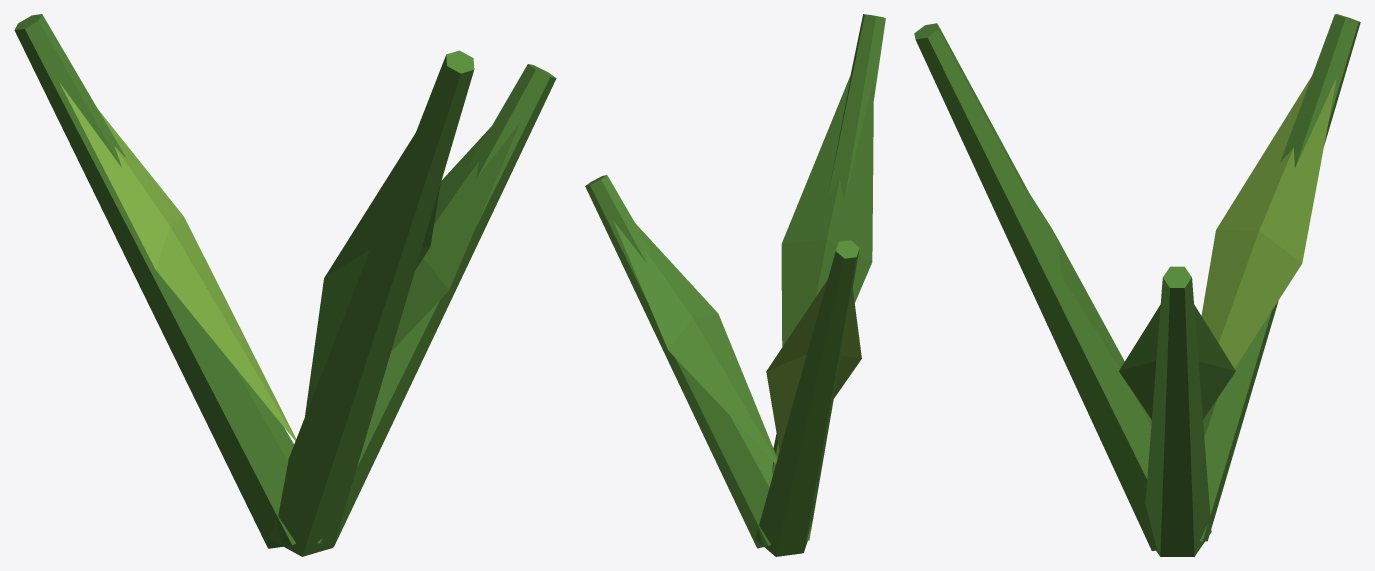
The model's file is carrot_stage_0.glb.
The picture shows the model from 3 angles, left to right: view 1: azimuth 30°, elevation 25°; view 2: azimuth 150°, elevation 25°; view 3: azimuth 270°, elevation 25°; orthographic projection. The views are drawn at different scales.
Parts seen in each view (by area): view 1: carrot_stage_0_Mesh; view 2: carrot_stage_0_Mesh; view 3: carrot_stage_0_Mesh.
Part boxes in pixels (x1,y1,x2,y2): carrot_stage_0_Mesh: (14,14,556,556); carrot_stage_0_Mesh: (585,14,885,556); carrot_stage_0_Mesh: (914,14,1360,556).
Bounding box in the file's own units: 0.0945 × 0.1195 × 0.0915.
